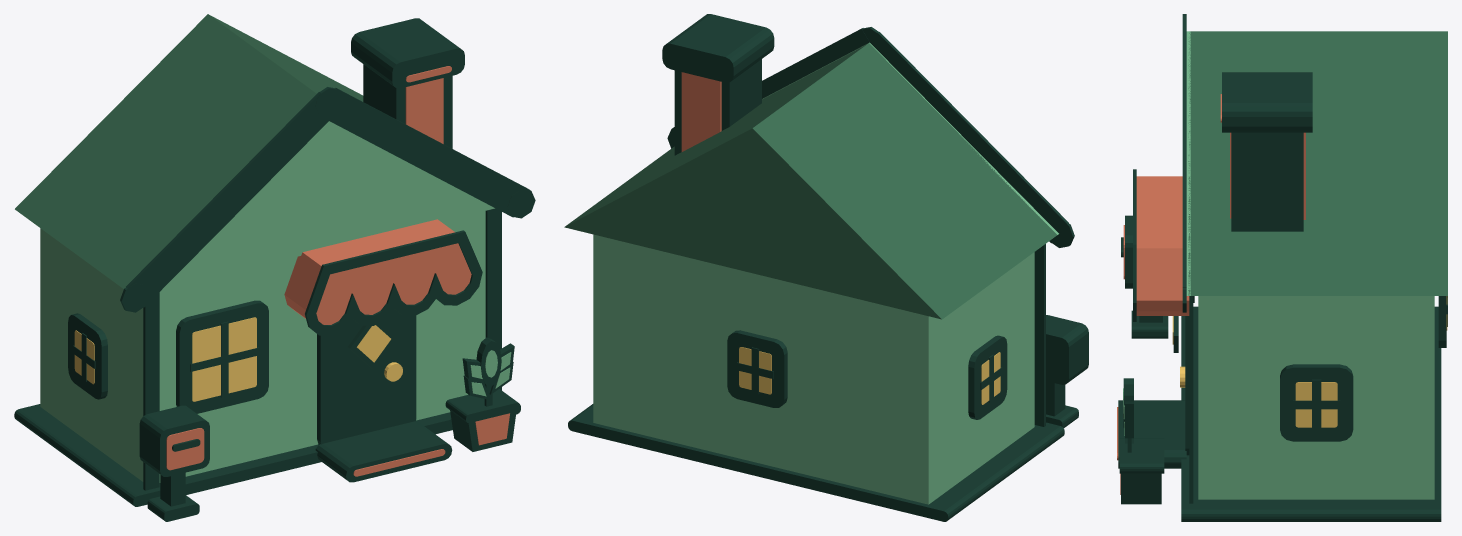
3 views of the same model, side by side, from view 1: azimuth 30°, elevation 25°; view 2: azimuth 150°, elevation 25°; view 3: azimuth 270°, elevation 25° (orthographic). The views are drawn at different scales.
Parts seen in each view (by area): view 1: Rent Free house; view 2: Rent Free house; view 3: Rent Free house.
Boxes of the visible parts, box(x1,y1,x2,y2) form: Rent Free house: box(14, 14, 535, 521); Rent Free house: box(564, 14, 1088, 521); Rent Free house: box(1117, 14, 1447, 521).
Bounding box in the file's own units: 1.14 × 0.9757 × 0.72.
